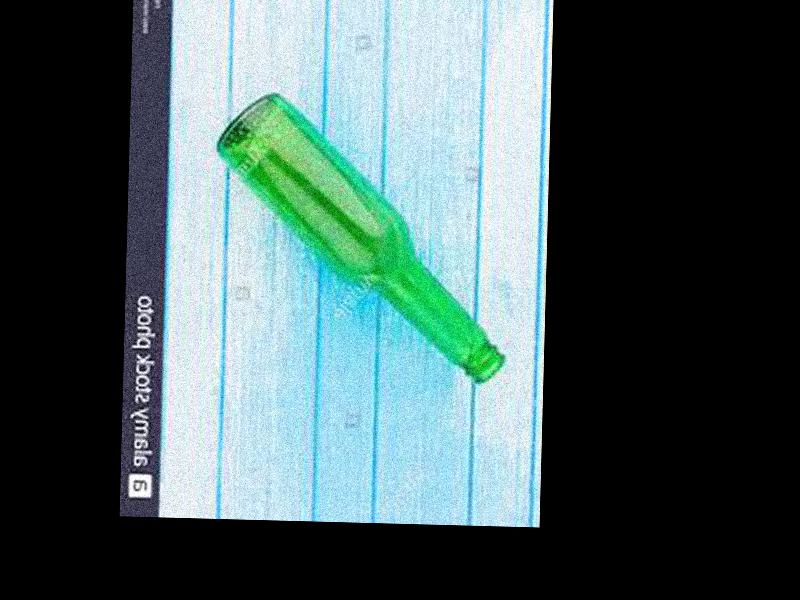Beer: (206, 88, 513, 387)
